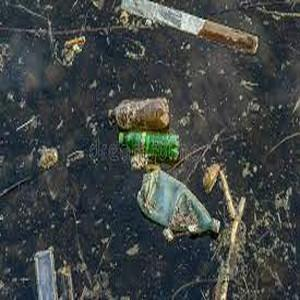Plastic: (114, 129, 182, 161)
